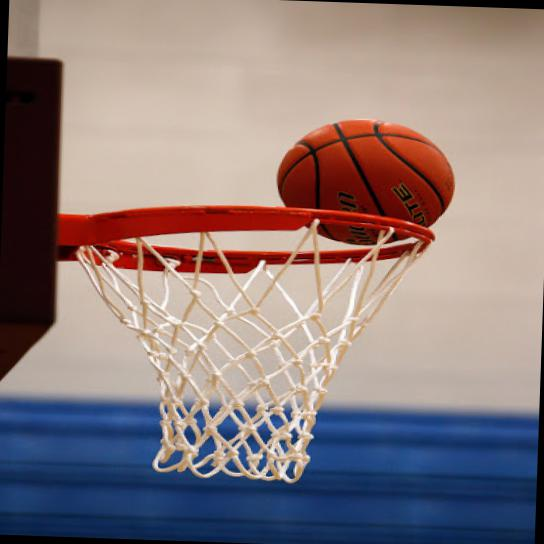basketball-hoop: (67, 196, 439, 491)
